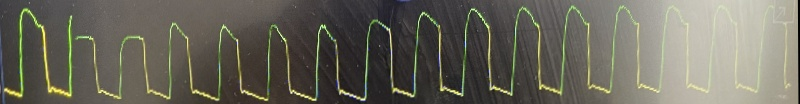normal_pressure: (0, 1, 772, 104)
